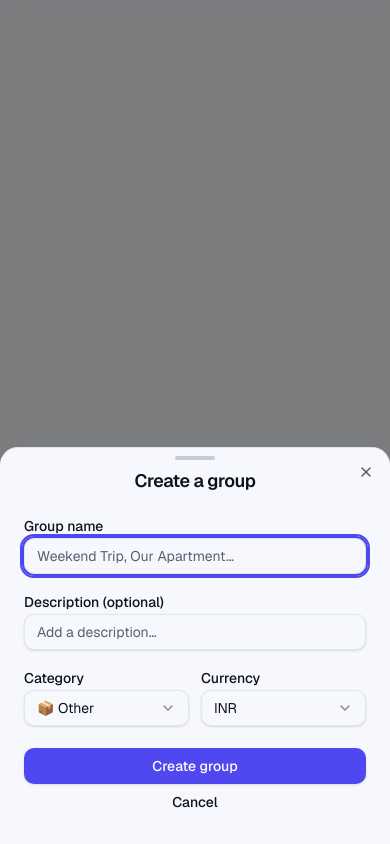
Test: CreateGroupDialog › requires a group name
What coordinates should you click on to do the following:
click the button "Create group"
I would click on:
 (195, 766)
Its box is [24,748,366,784].
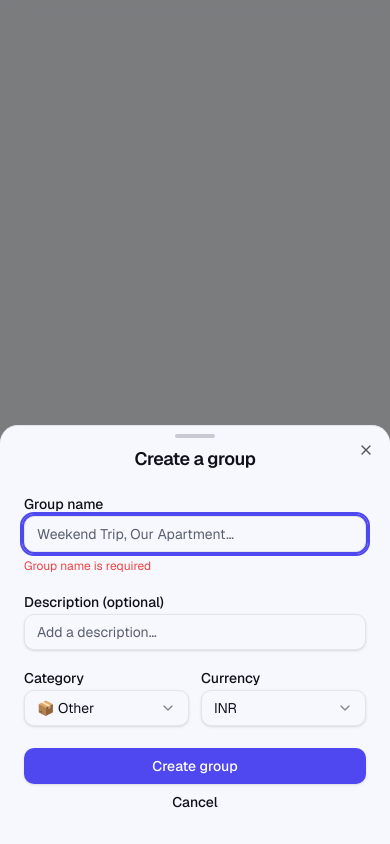
Result: the text "Group name is required" is shown at [24,558,151,574]
